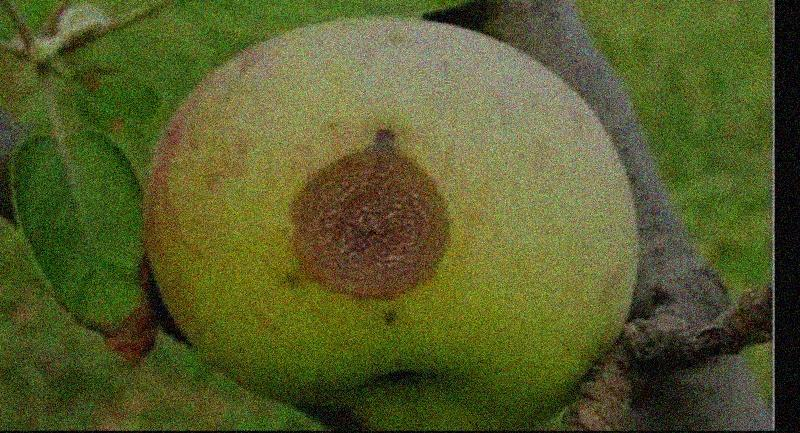rotten apple: (143, 15, 642, 427)
